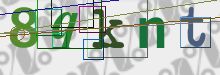8: (9, 6, 36, 47)
k: (92, 8, 124, 48)
n: (139, 16, 164, 48)
q: (50, 11, 79, 49)
t: (179, 6, 205, 47)
